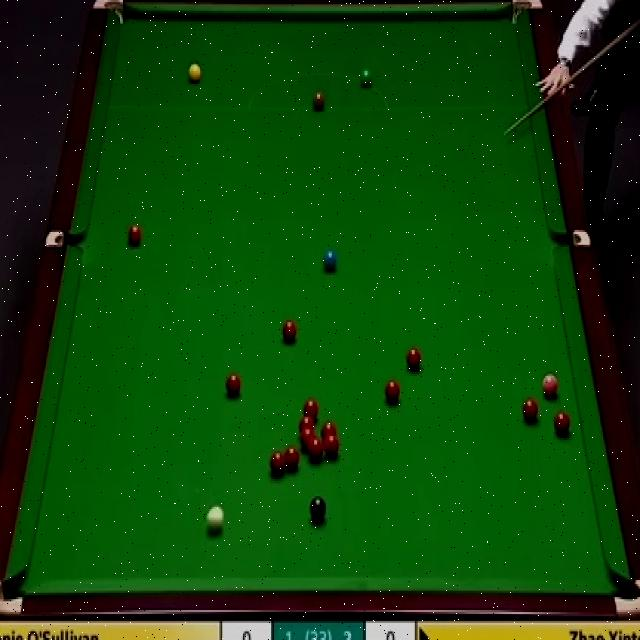black-ball: (310, 494, 326, 526)
blue-ball: (322, 248, 338, 271)
brown-ball: (312, 90, 326, 112)
green-ball: (359, 68, 373, 89)
pink-ball: (542, 372, 559, 399)
red-ball: (225, 372, 242, 401), (270, 449, 288, 476), (283, 448, 301, 474), (524, 398, 542, 423), (323, 434, 340, 460), (554, 412, 572, 436), (384, 380, 400, 406), (281, 320, 298, 344), (125, 224, 143, 246), (407, 346, 422, 372), (309, 437, 323, 461), (302, 399, 320, 416), (300, 429, 315, 449), (299, 415, 314, 432), (322, 424, 336, 438)
white-ball: (204, 503, 224, 530)
yellow-ball: (188, 64, 203, 86)
